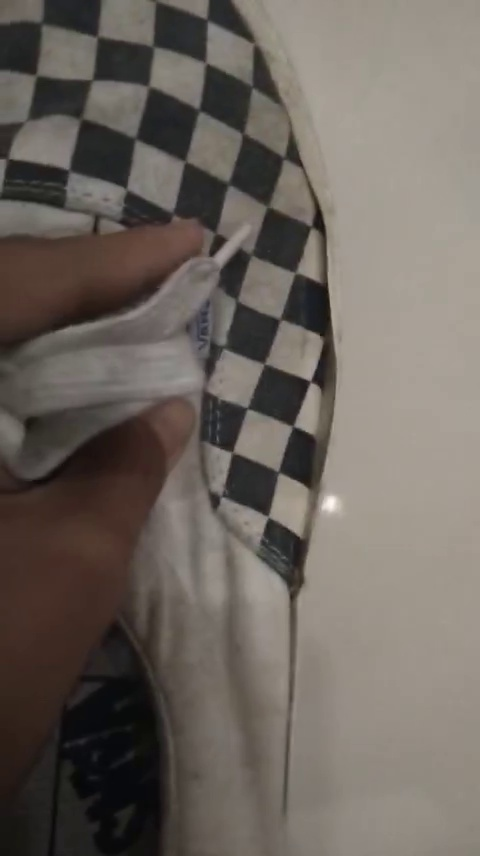bonding: (296, 208, 348, 578)
